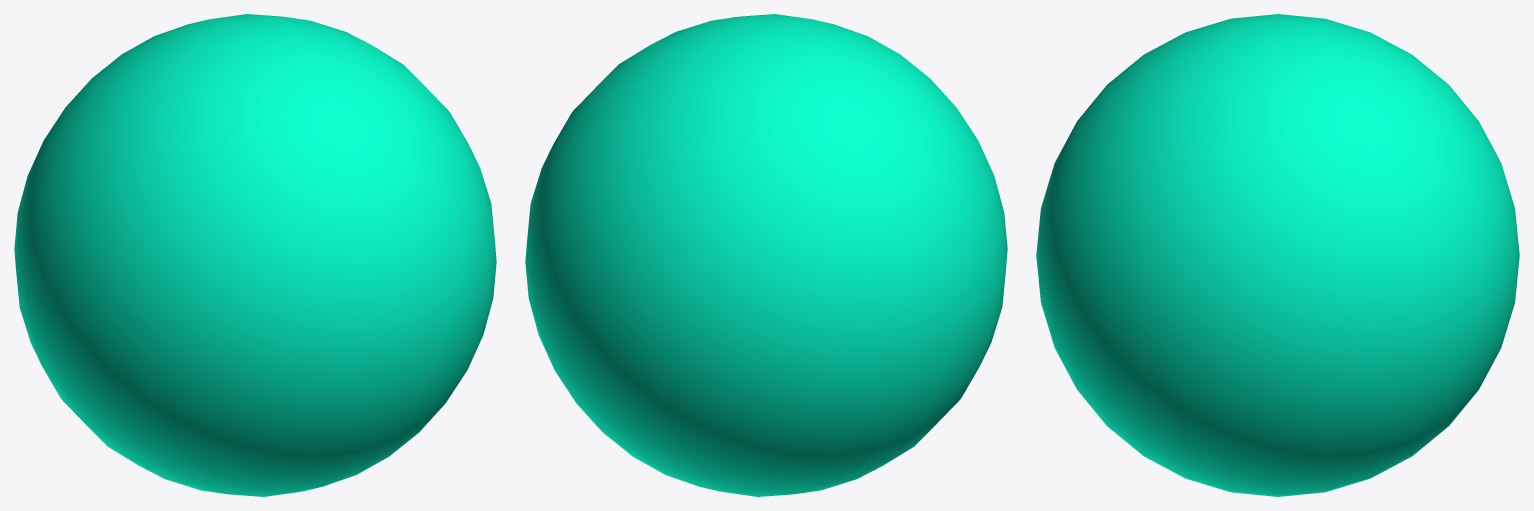
File: Itembox.FBX
3 views of the same model, side by side, from view 1: azimuth 30°, elevation 25°; view 2: azimuth 150°, elevation 25°; view 3: azimuth 270°, elevation 25° (orthographic).
Visible parts, largest first — view 1: Itemsphere; view 2: Itemsphere; view 3: Itemsphere.
Boxes of the visible parts, x1,y1,x2,y2 form: Itemsphere: (14,14,496,496); Itemsphere: (525,14,1007,496); Itemsphere: (1036,14,1519,496).
Bounding box in the file's own units: 400 × 400 × 400.
